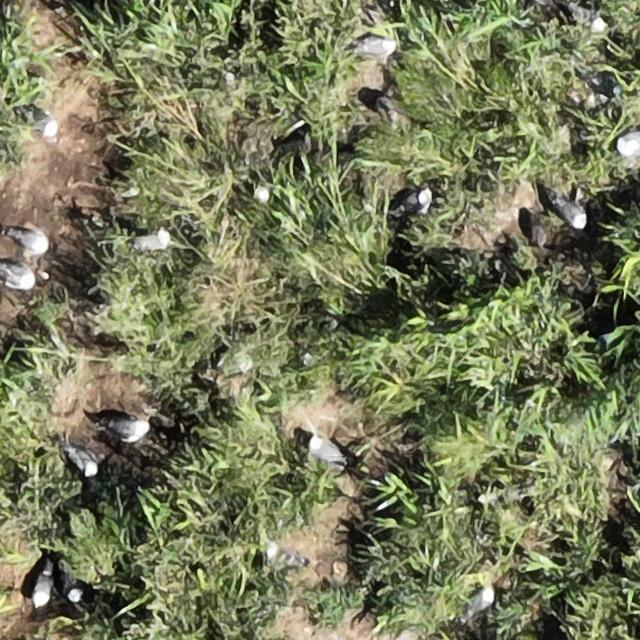umineko: (18, 98, 61, 137), (54, 555, 84, 603), (106, 417, 149, 438), (557, 198, 587, 227), (309, 438, 341, 465), (13, 230, 48, 252), (70, 448, 98, 475), (357, 38, 396, 57), (398, 190, 430, 213), (466, 587, 494, 613), (617, 128, 640, 158), (4, 264, 34, 286), (34, 572, 52, 606), (138, 232, 170, 249)
